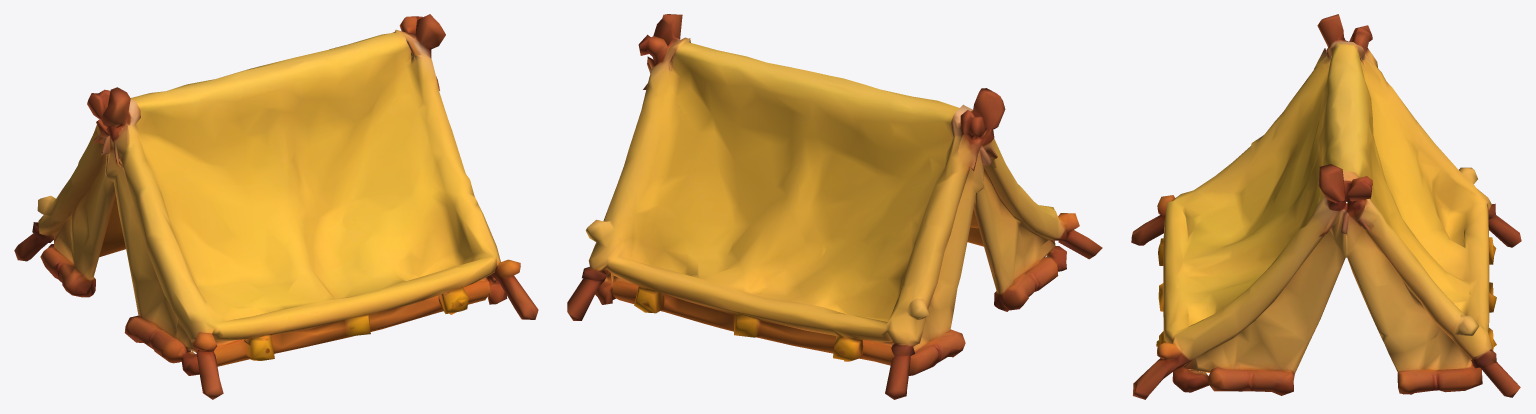
The model's file is camp_tent-CHmdbh30.glb.
3 views of the same model, side by side, from view 1: azimuth 30°, elevation 25°; view 2: azimuth 150°, elevation 25°; view 3: azimuth 270°, elevation 25° (orthographic). The views are drawn at different scales.
Parts seen in each view (by area): view 1: tripo_node_819db9fa-f267-4082-bc77-a50f01cbdbb6; view 2: tripo_node_819db9fa-f267-4082-bc77-a50f01cbdbb6; view 3: tripo_node_819db9fa-f267-4082-bc77-a50f01cbdbb6.
Boxes of the visible parts, x1,y1,x2,y2 form: tripo_node_819db9fa-f267-4082-bc77-a50f01cbdbb6: [14, 14, 538, 399]; tripo_node_819db9fa-f267-4082-bc77-a50f01cbdbb6: [567, 14, 1102, 399]; tripo_node_819db9fa-f267-4082-bc77-a50f01cbdbb6: [1131, 14, 1521, 399].
Size of the model in its own units: 0.9955 by 0.6555 by 1.
1 material, 1 textured.
